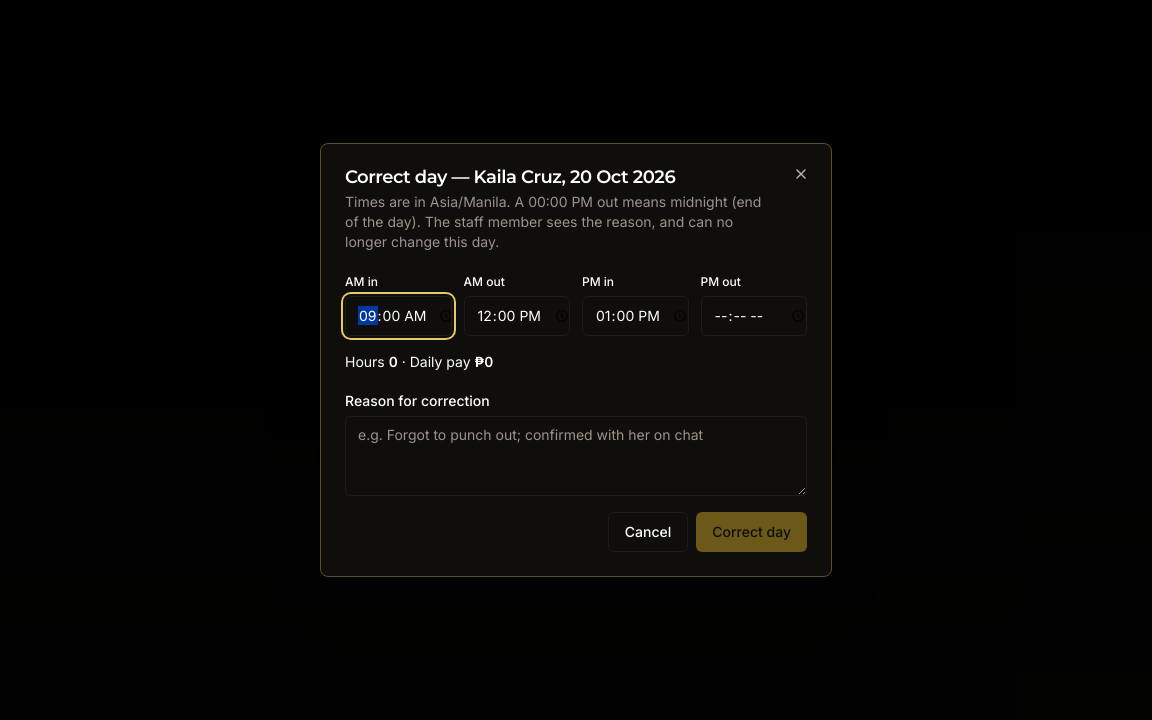
it: Correct day dialog › previews hours and daily pay with the same rules, incl. a midnight PM out
In the time field labelled "PM out": point(754, 316) [700, 296, 807, 336], type "00:00"
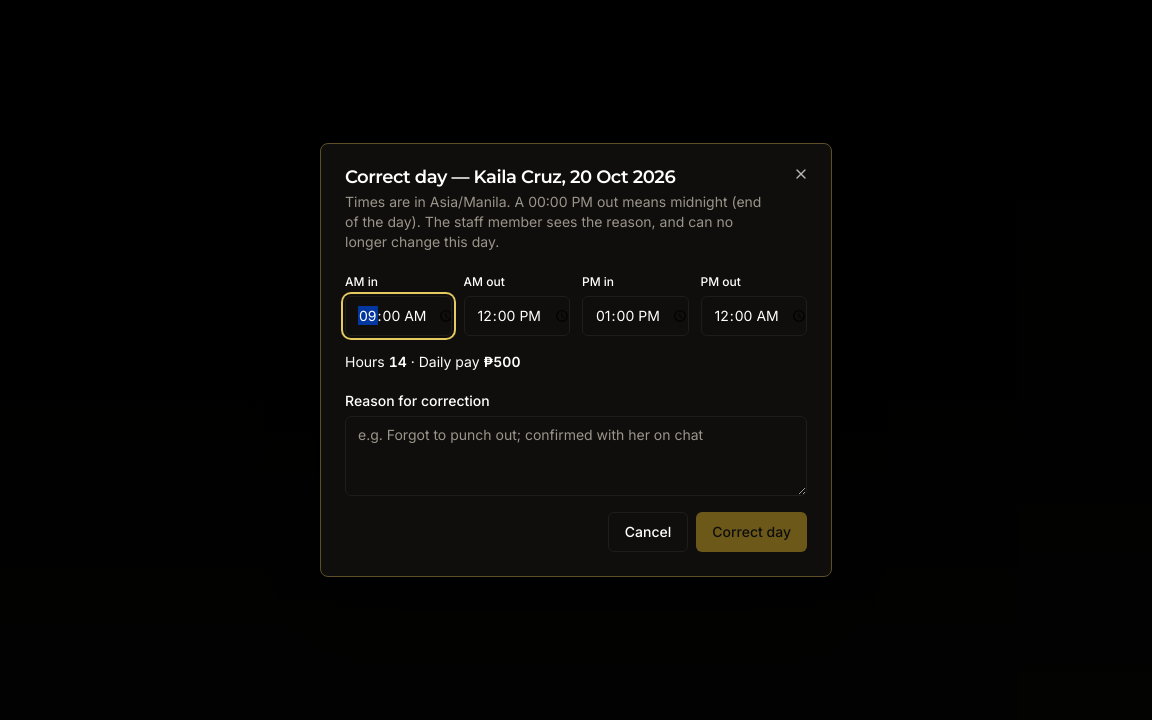
Expected: the element with test id "correct-preview" reads "Hours 14 · Daily pay ₱500", [345, 353, 520, 370]
Replace the text in the time field labelled "PM out" with "14:00": point(754, 316) [700, 296, 807, 336]
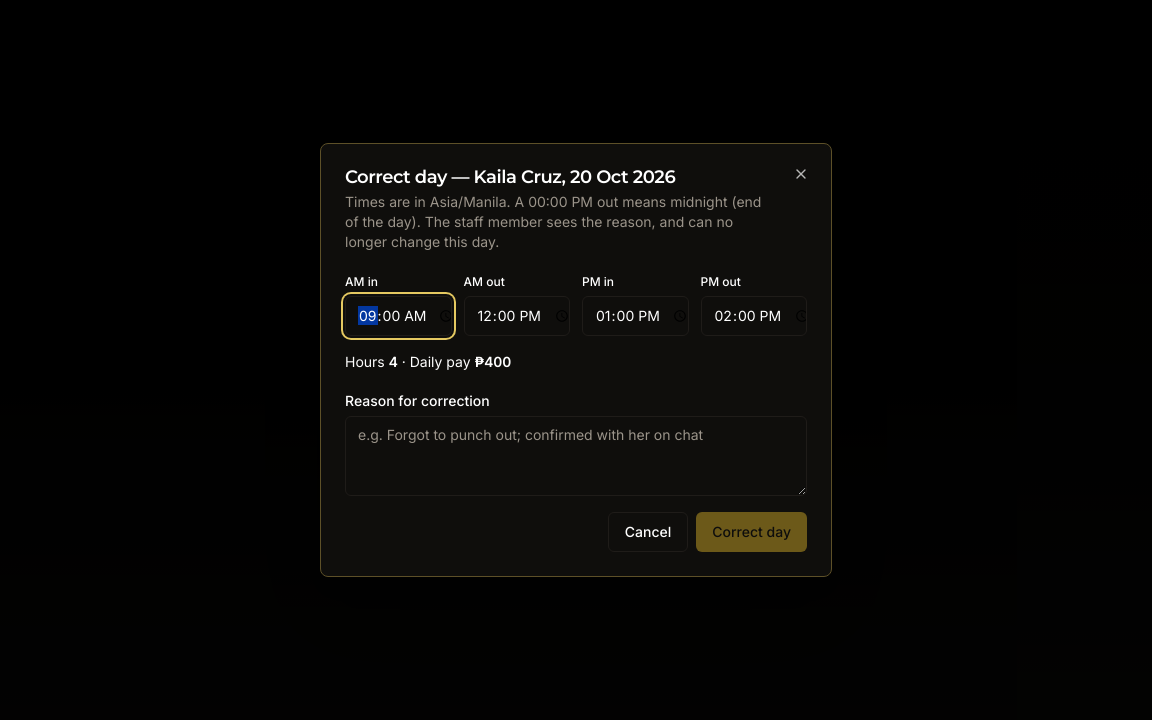
Expected: the element with test id "correct-preview" reads "Hours 4 · Daily pay ₱400", [345, 353, 511, 370]
